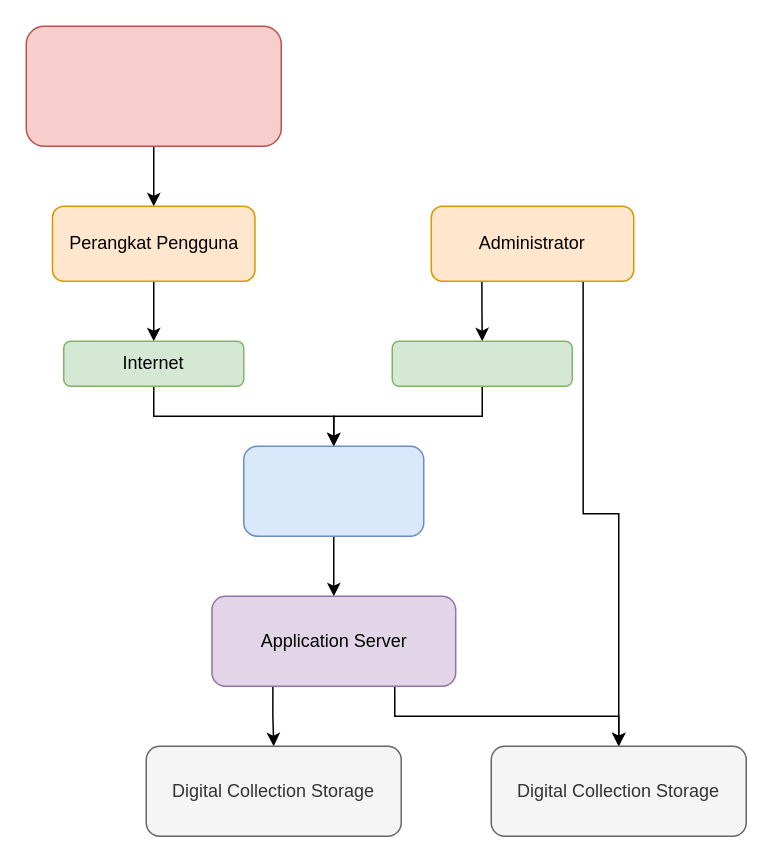
Image size: 773x863. Some labels were removed from this diagram. Here are the shapes that lost their labels. From the top down, the centre of each, then its label:
the point at 153,85: Pengguna : Mahasiswa / Dosen / Petugas
the point at 481,363: Pengelolaan
the point at 333,490: Web Server
